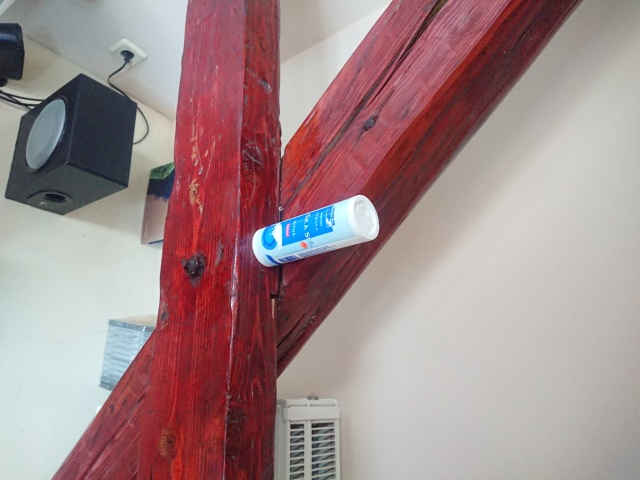Solana Pag Fine Sea Salt 250g: (250, 192, 382, 269)
